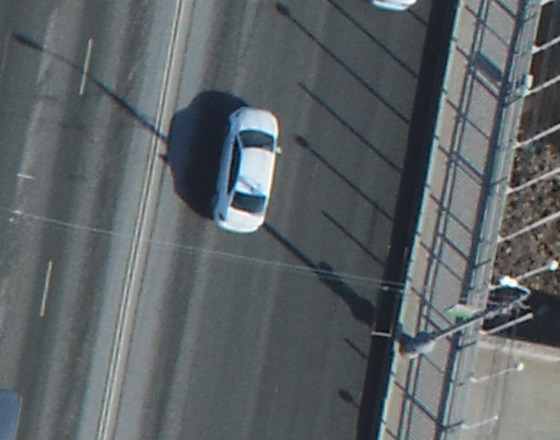opora: (333, 273, 534, 359)
